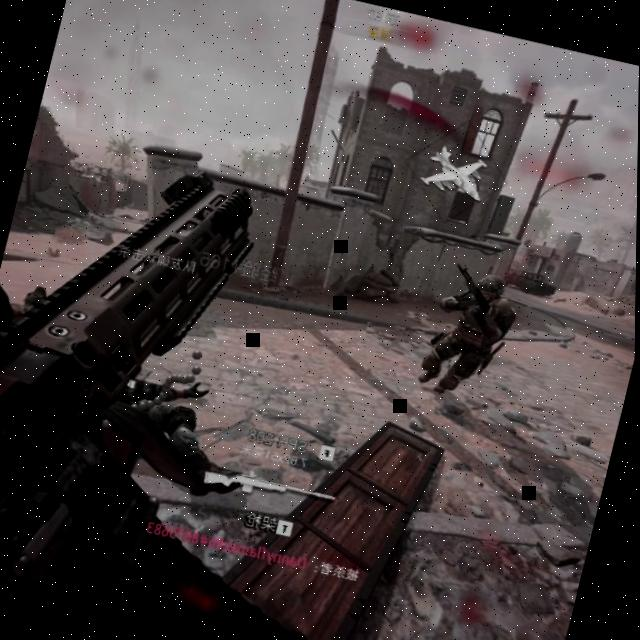MW2_body: (414, 266, 527, 408)
